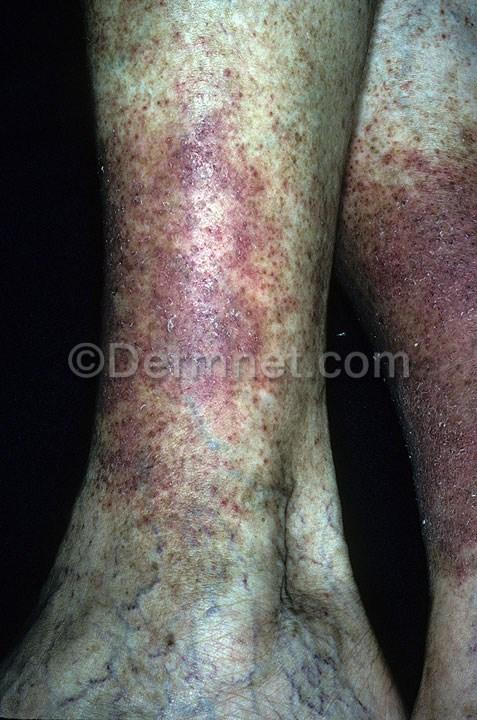Eczema: (98, 77, 295, 350), (396, 386, 477, 583), (104, 387, 279, 473), (335, 210, 477, 294), (339, 126, 477, 202), (374, 301, 477, 378)
